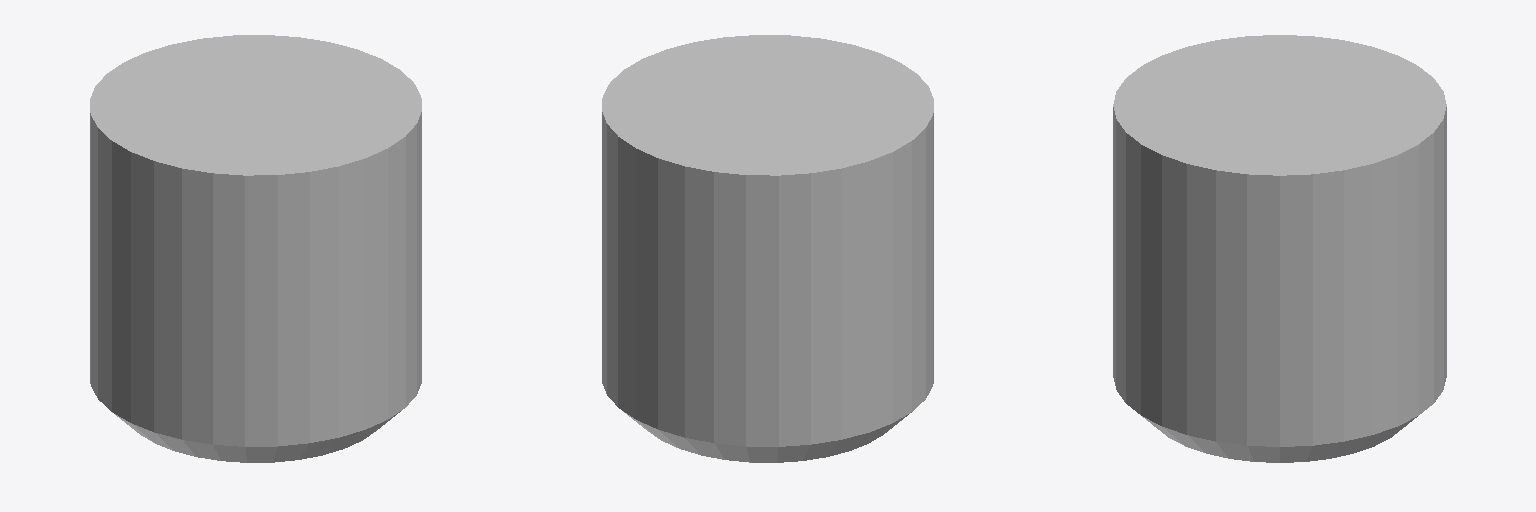
Rendered from 03_Lens.obj.
3 renders of one model, left to right at view 1: azimuth 30°, elevation 25°; view 2: azimuth 150°, elevation 25°; view 3: azimuth 270°, elevation 25°, orthographic.
Visible parts, largest first — view 1: Cylinder; view 2: Cylinder; view 3: Cylinder.
Boxes of the visible parts, box(x1,y1,x2,y2) form: Cylinder: box(90, 35, 421, 462); Cylinder: box(602, 35, 933, 462); Cylinder: box(1113, 35, 1446, 462).
Size of the model in its own units: 2 by 1.99 by 2.